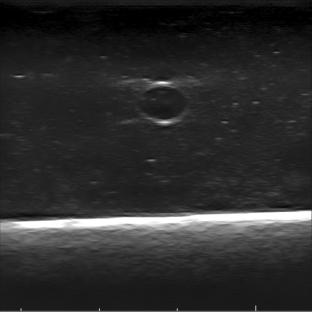vessel: (134, 80, 190, 125)
